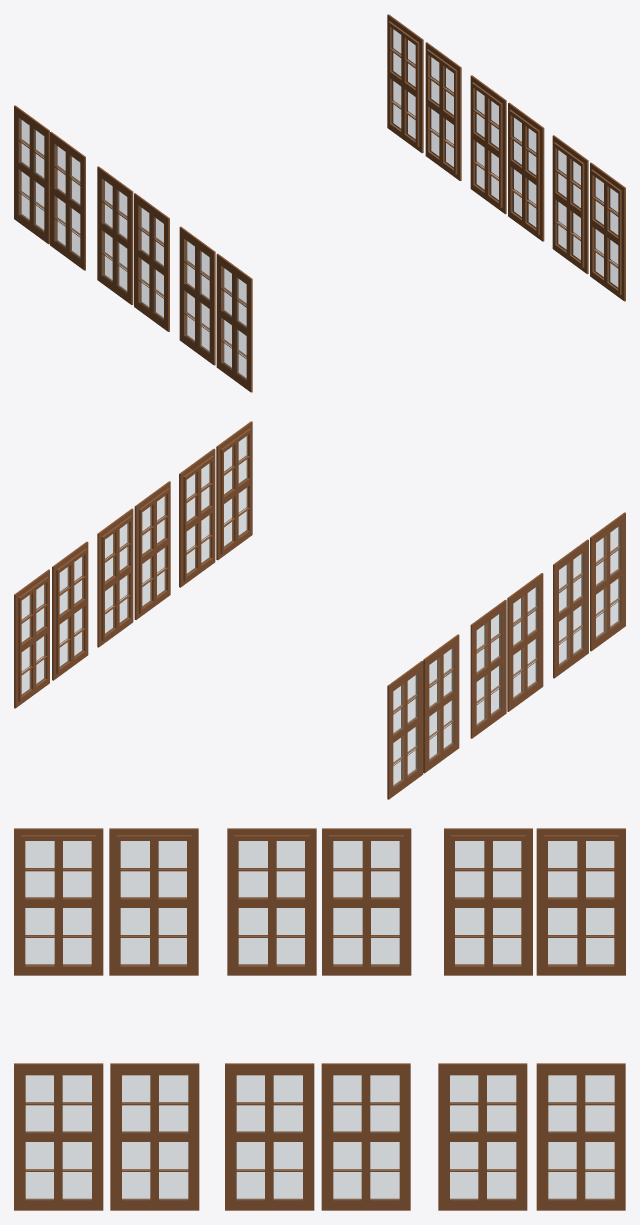
The model's file is window.glb.
The picture shows the model from 3 angles, top to bottom: view 1: azimuth 30°, elevation 25°; view 2: azimuth 150°, elevation 25°; view 3: azimuth 270°, elevation 25°; orthographic projection. The views are drawn at different scales.
Visible parts, largest first — view 1: window; view 2: window; view 3: window.
Boxes of the visible parts, box(x1,y1,x2,y2) form: window: box(14, 14, 625, 392); window: box(14, 421, 625, 799); window: box(14, 828, 625, 1210).
Bounding box in the file's own units: 13.36 × 3.86 × 14.64.
